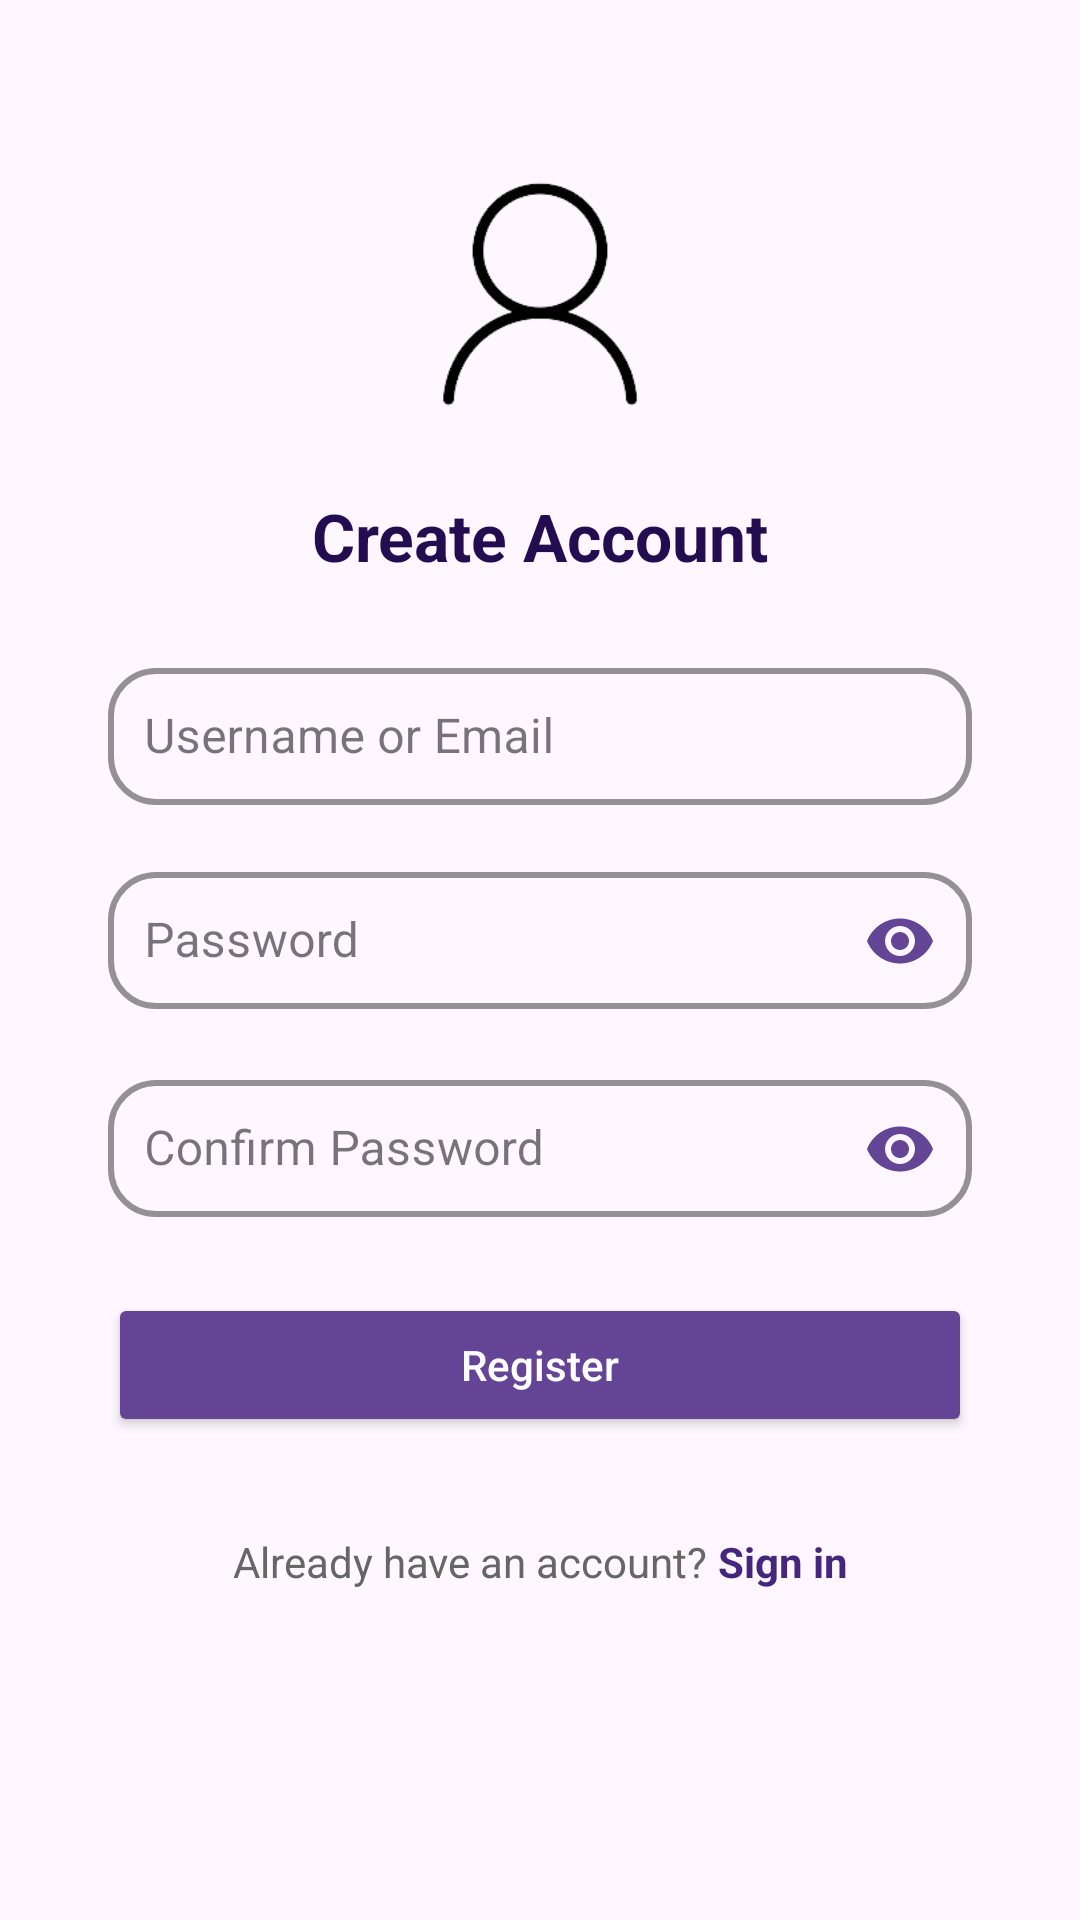

Where icons sit on this 1080x1920 app screen, as (x1, y1, x2, y2):
user: (443, 183, 637, 406)
